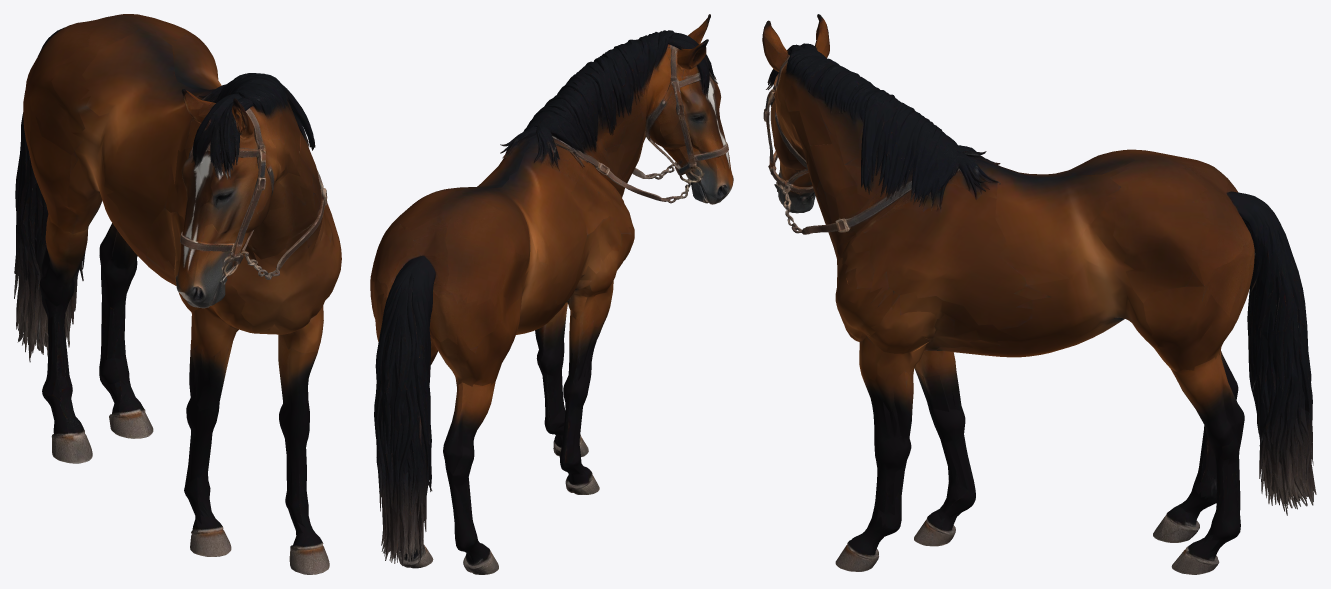
File: horse.glb
3 renders of one model, left to right at view 1: azimuth 30°, elevation 25°; view 2: azimuth 150°, elevation 25°; view 3: azimuth 270°, elevation 25°, orthographic. The views are drawn at different scales.
Bounding box in the file's own units: 0.7977 × 1.85 × 1.9.
Materials: 1 (1 with a texture image).
